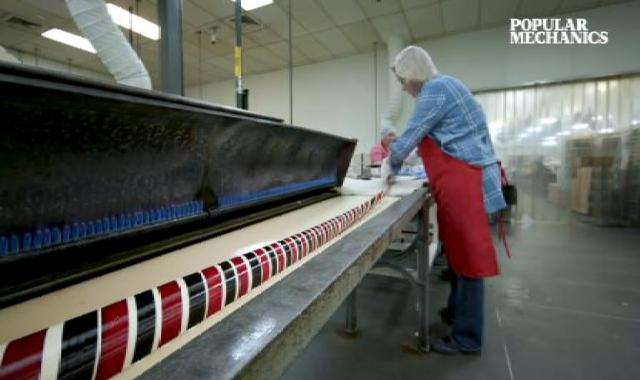hairnet: (391, 45, 448, 88), (378, 121, 401, 139)
